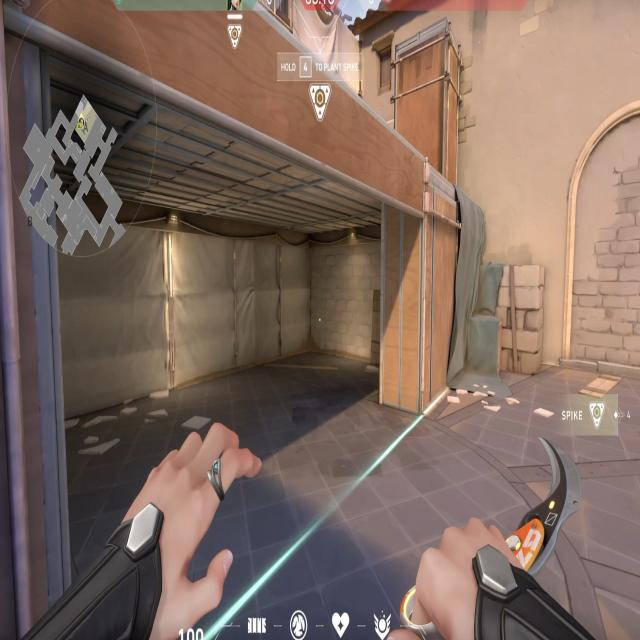A_Heaven_Box: (388, 22, 469, 196)
